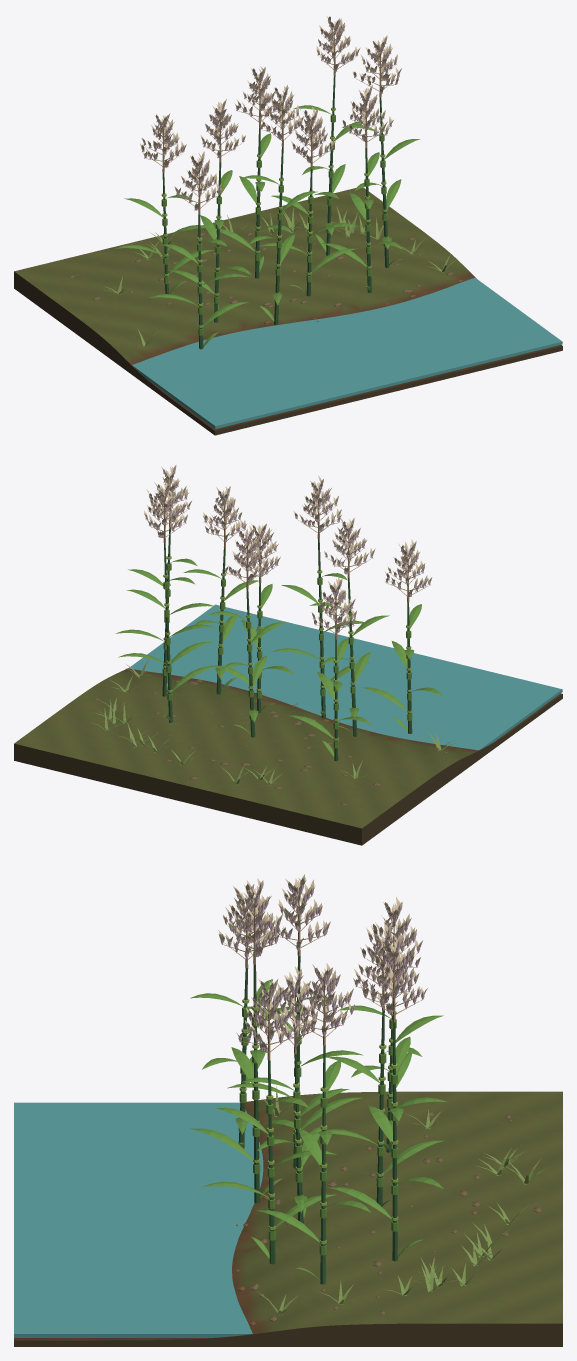
The model's file is reeds-v4.glb.
3 views of the same model, one above another, from view 1: azimuth 30°, elevation 25°; view 2: azimuth 150°, elevation 25°; view 3: azimuth 270°, elevation 25° (orthographic). The views are drawn at different scales.
Parts seen in each view (by area): view 1: Static_mesh, ReedSeedPlume.004_mesh, ReedSeedPlume.005_mesh, ReedSeedPlume.006_mesh, ReedSeedPlume.003_mesh, ReedSeedPlume_mesh, ReedSeedPlume.008_mesh, ReedSeedPlume.002_mesh, ReedSeedPlume.001_mesh, ReedSeedPlume.007_mesh, ReedCulm.002_mesh; view 2: Static_mesh, ReedSeedPlume.008_mesh, ReedSeedPlume.002_mesh, ReedSeedPlume_mesh, ReedSeedPlume.006_mesh, ReedSeedPlume.001_mesh, ReedSeedPlume.004_mesh, ReedSeedPlume.007_mesh, ReedSeedPlume.003_mesh, ReedSeedPlume.005_mesh, ReedCulm.008_mesh, ReedCulm.002_mesh; view 3: Static_mesh, ReedSeedPlume.008_mesh, ReedSeedPlume.004_mesh, ReedSeedPlume.002_mesh, ReedSeedPlume.005_mesh, ReedSeedPlume.001_mesh, ReedSeedPlume.003_mesh, ReedSeedPlume.006_mesh, ReedCulm.005_mesh, ReedCulm.008_mesh, ReedSeedPlume.007_mesh, ReedFlowering.008_mesh (+8 smaller).
Boxes of the visible parts, bbox=[...] form: Static_mesh: bbox=[14, 187, 562, 435]; ReedSeedPlume.004_mesh: bbox=[342, 85, 393, 140]; ReedSeedPlume.005_mesh: bbox=[352, 35, 401, 93]; ReedSeedPlume.006_mesh: bbox=[140, 113, 186, 167]; ReedSeedPlume.003_mesh: bbox=[291, 107, 335, 162]; ReedSeedPlume_mesh: bbox=[174, 151, 223, 209]; ReedSeedPlume.008_mesh: bbox=[316, 16, 360, 71]; ReedSeedPlume.002_mesh: bbox=[259, 85, 303, 139]; ReedSeedPlume.001_mesh: bbox=[200, 99, 245, 157]; ReedSeedPlume.007_mesh: bbox=[235, 66, 281, 120]; ReedCulm.002_mesh: bbox=[274, 147, 283, 325]; Static_mesh: bbox=[14, 604, 562, 845]; ReedSeedPlume.008_mesh: bbox=[144, 481, 187, 537]; ReedSeedPlume.002_mesh: bbox=[293, 475, 341, 531]; ReedSeedPlume_mesh: bbox=[385, 539, 432, 596]; ReedSeedPlume.006_mesh: bbox=[311, 577, 356, 632]; ReedSeedPlume.001_mesh: bbox=[324, 517, 375, 573]; ReedSeedPlume.004_mesh: bbox=[203, 486, 246, 541]; ReedSeedPlume.007_mesh: bbox=[224, 525, 268, 581]; ReedSeedPlume.003_mesh: bbox=[236, 523, 280, 573]; ReedSeedPlume.005_mesh: bbox=[146, 465, 191, 521]; ReedCulm.008_mesh: bbox=[163, 543, 172, 722]; ReedCulm.002_mesh: bbox=[317, 539, 325, 718]; Static_mesh: bbox=[14, 1091, 562, 1346]; ReedSeedPlume.008_mesh: bbox=[360, 933, 427, 1011]; ReedSeedPlume.004_mesh: bbox=[236, 978, 301, 1049]; ReedSeedPlume.002_mesh: bbox=[225, 878, 282, 953]; ReedSeedPlume.005_mesh: bbox=[291, 963, 354, 1033]; ReedSeedPlume.001_mesh: bbox=[265, 874, 330, 947]; ReedSeedPlume.003_mesh: bbox=[267, 966, 318, 1044]; ReedSeedPlume.006_mesh: bbox=[360, 897, 422, 972]; ReedCulm.005_mesh: bbox=[319, 1045, 327, 1284]; ReedCulm.008_mesh: bbox=[391, 1022, 398, 1261]; ReedSeedPlume.007_mesh: bbox=[353, 923, 412, 1000]; ReedFlowering.008_mesh: bbox=[363, 940, 424, 1014].
Bounding box in the file's own units: 3.5 × 2.46 × 3.5.
